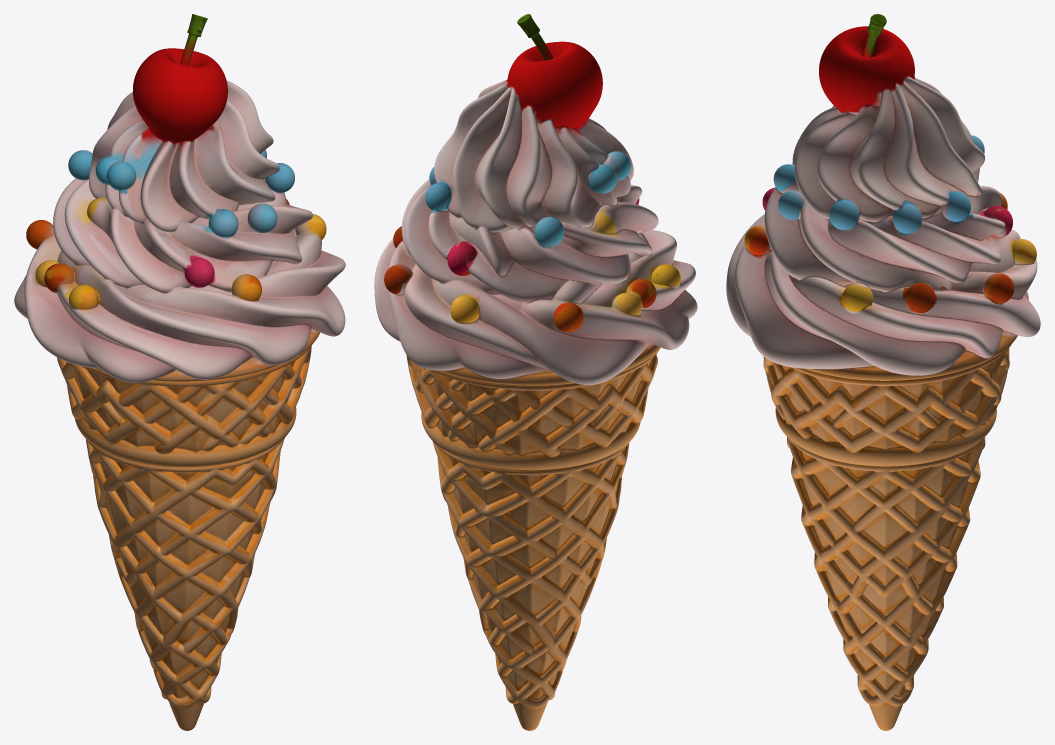
The model's file is icecream.glb.
The picture shows the model from 3 angles, left to right: view 1: azimuth 30°, elevation 25°; view 2: azimuth 150°, elevation 25°; view 3: azimuth 270°, elevation 25°; orthographic projection.
Visible parts, largest first — view 1: Object_6, Object_4, Object_5, Object_3, Object_2; view 2: Object_3, Object_4, Object_5, Object_6, Object_2; view 3: Object_2, Object_4, Object_5, Object_6, Object_3.
Boxes of the visible parts, <box> form: Object_6: <box>27,128,311,479</box>; Object_4: <box>14,14,345,365</box>; Object_5: <box>33,14,293,730</box>; Object_3: <box>57,250,345,569</box>; Object_2: <box>211,229,311,637</box>; Object_3: <box>376,230,659,602</box>; Object_4: <box>417,14,676,384</box>; Object_5: <box>434,16,660,730</box>; Object_6: <box>392,119,697,453</box>; Object_2: <box>374,231,508,643</box>; Object_2: <box>781,278,1033,659</box>; Object_4: <box>726,14,1037,376</box>; Object_5: <box>801,24,1027,730</box>; Object_6: <box>762,110,1028,415</box>; Object_3: <box>771,256,1040,558</box>.
Bounding box in the file's own units: 199 × 477 × 190.
1 material, 1 textured.
